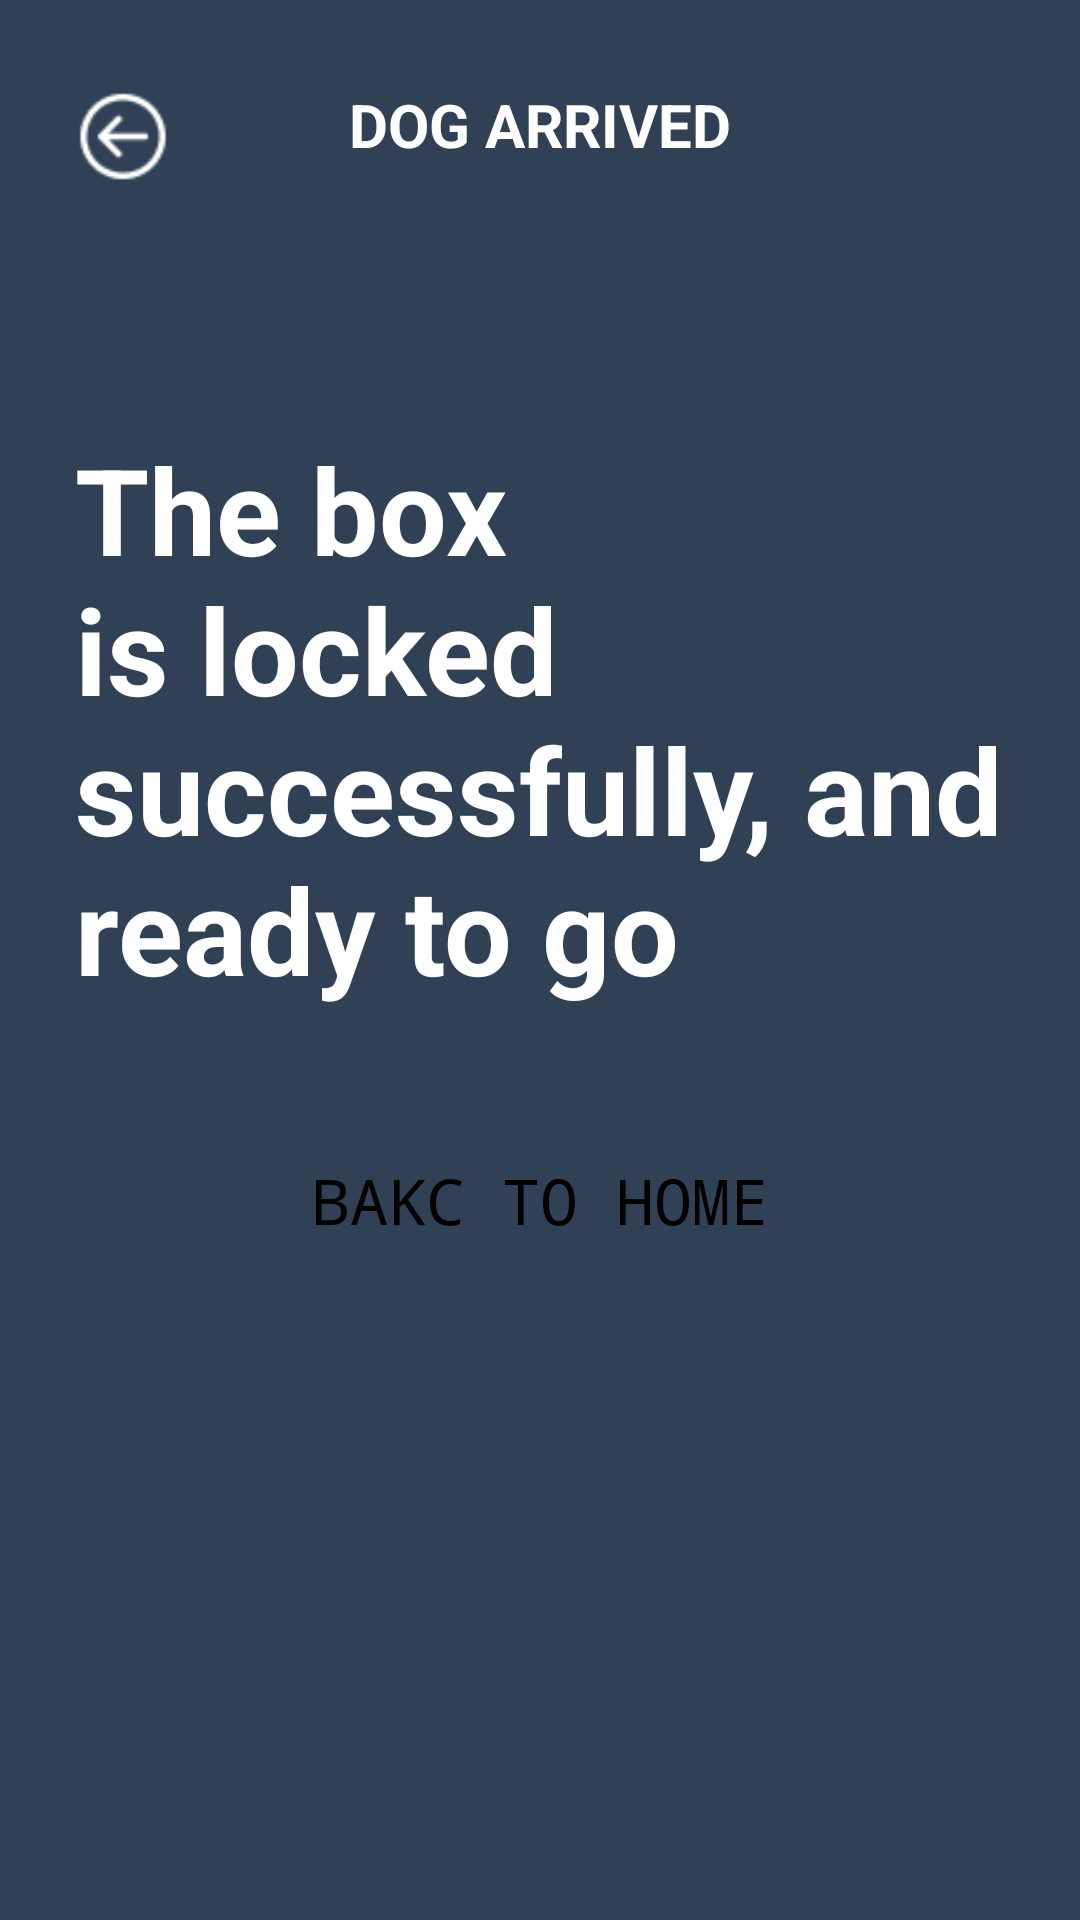

Icons on this 1080w x 1920h Android screen, each with its box as [left=x1, top=y1, right=x2, bottom=y2]:
back: [left=80, top=93, right=166, bottom=180]
